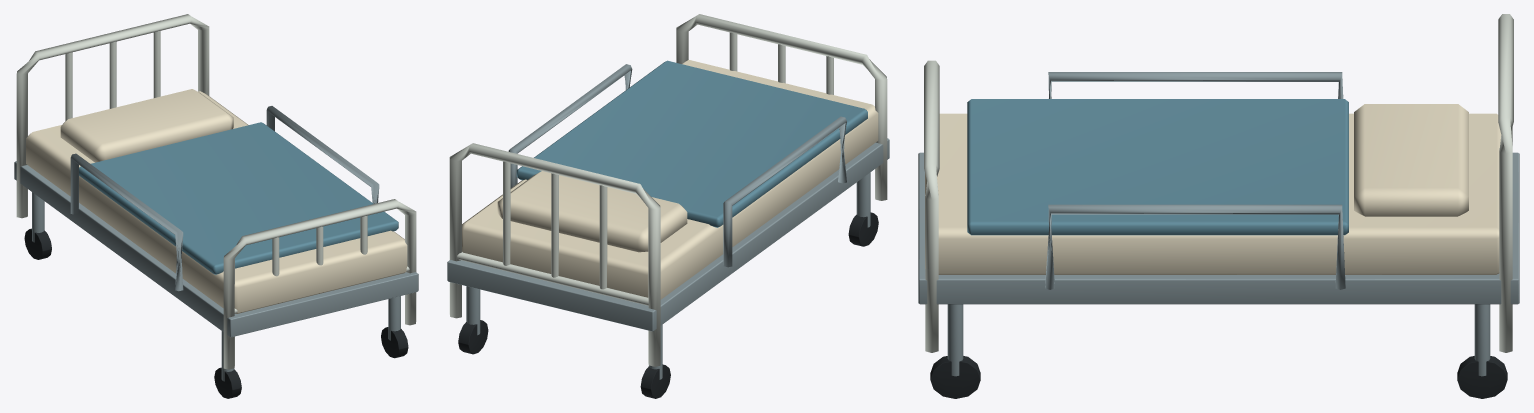
File: S047_hospital_bed_rebuilt.glb
The picture shows the model from 3 angles, left to right: view 1: azimuth 30°, elevation 25°; view 2: azimuth 150°, elevation 25°; view 3: azimuth 270°, elevation 25°; orthographic projection. The views are drawn at different scales.
Parts seen in each view (by area): view 1: Hospital_vinyl_blue, Warm_ivory, Brushed_steel, Warm_painted_enamel, Deep_joint_recess; view 2: Hospital_vinyl_blue, Warm_ivory, Brushed_steel, Warm_painted_enamel, Deep_joint_recess; view 3: Hospital_vinyl_blue, Warm_ivory, Brushed_steel, Warm_painted_enamel, Deep_joint_recess.
Boxes of the visible parts, <box> form: Hospital_vinyl_blue: <box>79,122,398,274</box>; Warm_ivory: <box>26,89,407,313</box>; Brushed_steel: <box>14,106,418,381</box>; Warm_painted_enamel: <box>16,14,416,369</box>; Deep_joint_recess: <box>24,228,408,398</box>; Hospital_vinyl_blue: <box>516,60,867,227</box>; Warm_ivory: <box>462,60,878,299</box>; Brushed_steel: <box>447,64,889,379</box>; Warm_painted_enamel: <box>449,14,887,366</box>; Deep_joint_recess: <box>458,212,878,398</box>; Hospital_vinyl_blue: <box>967,99,1348,235</box>; Warm_ivory: <box>925,104,1501,274</box>; Brushed_steel: <box>918,72,1519,376</box>; Warm_painted_enamel: <box>924,14,1513,352</box>; Deep_joint_recess: <box>930,356,1507,398</box>.
Bounding box in the file's own units: 1.15 × 1.06 × 2.12.
